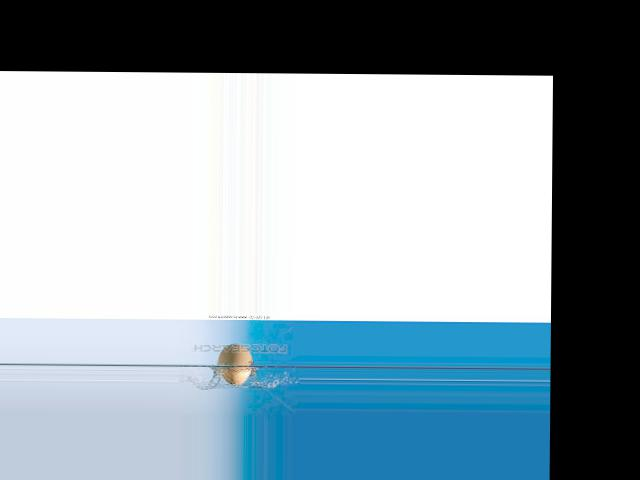egg: (217, 343, 252, 385)
